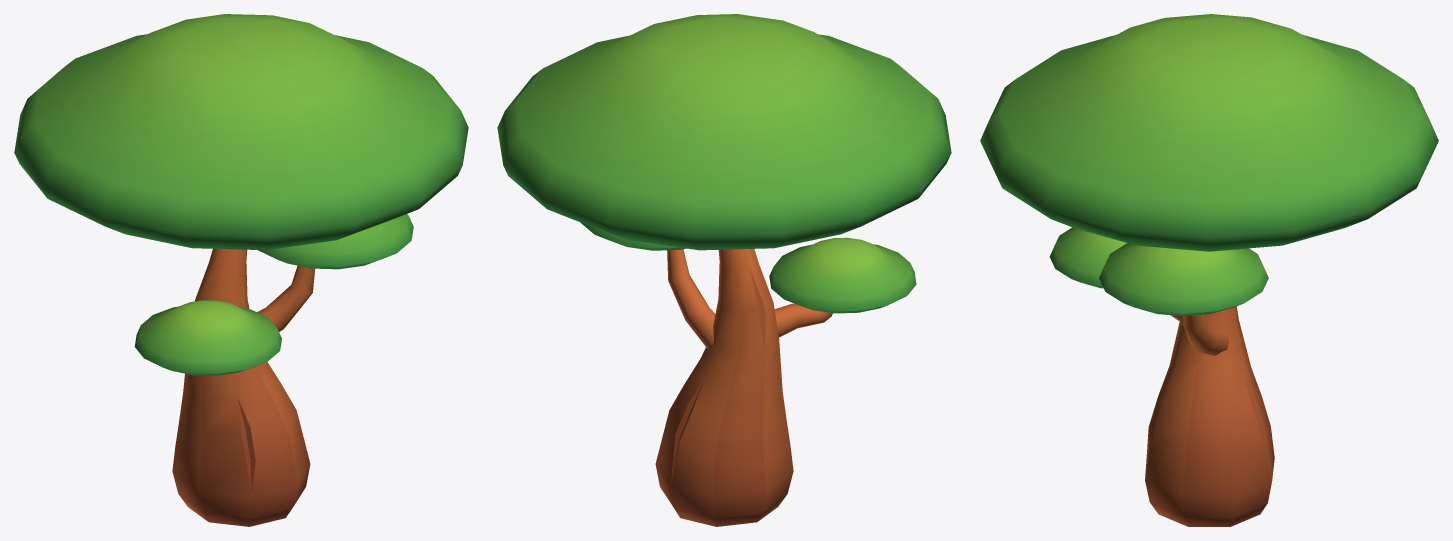
File: Tree_3_A_Color1.gltf
3 renders of one model, left to right at view 1: azimuth 30°, elevation 25°; view 2: azimuth 150°, elevation 25°; view 3: azimuth 270°, elevation 25°, orthographic.
Parts seen in each view (by area): view 1: Tree_3_A_Color1; view 2: Tree_3_A_Color1; view 3: Tree_3_A_Color1.
Boxes of the visible parts, <box> form: Tree_3_A_Color1: <box>14,14,468,526</box>; Tree_3_A_Color1: <box>497,14,951,526</box>; Tree_3_A_Color1: <box>980,14,1438,526</box>.
Size of the model in its own units: 3.09 by 3.51 by 3.09.
1 material, 1 textured.
